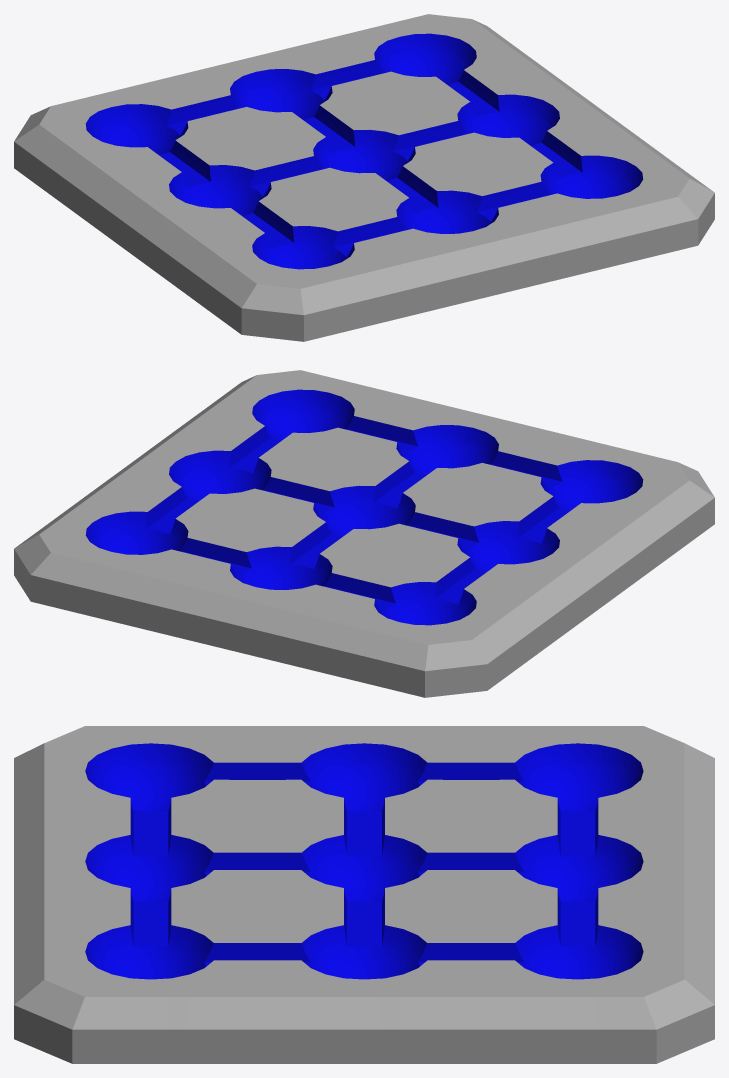
File: PatternPlaque.fbx
The picture shows the model from 3 angles, top to bottom: view 1: azimuth 30°, elevation 25°; view 2: azimuth 150°, elevation 25°; view 3: azimuth 270°, elevation 25°; orthographic projection. The views are drawn at different scales.
Parts seen in each view (by area): view 1: pSphere21; view 2: pSphere21; view 3: pSphere21.
Part boxes in pixels (box(x1,y1,x2,y2)): pSphere21: box(14, 14, 714, 341); pSphere21: box(14, 370, 714, 697); pSphere21: box(14, 726, 714, 1063).
Bounding box in the file's own units: 232 × 19.84 × 232.
